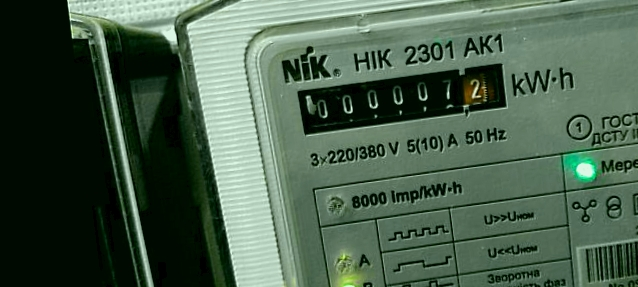0: (314, 95, 330, 121), (365, 87, 381, 111), (390, 83, 406, 107), (414, 79, 430, 103), (339, 92, 355, 115)
2: (467, 76, 483, 101)
7: (440, 76, 455, 101)
screen: (285, 51, 519, 145)
